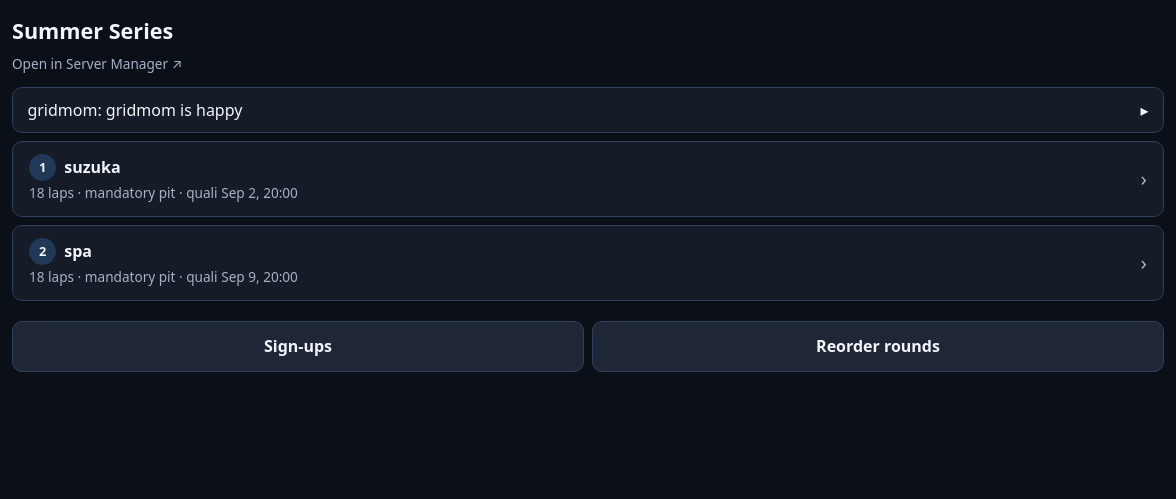
Test case: reordering the rounds › shows the night each slot keeps rather than moving it
The width and height of the screenshot is (1176, 499).
Expected: the heading "Summer Series" is shown, top-left (12, 16), bottom-right (173, 45)
Step 1. Click the button "Reorder rounds" → (878,346), box top-left (592, 320), bottom-right (1164, 372)
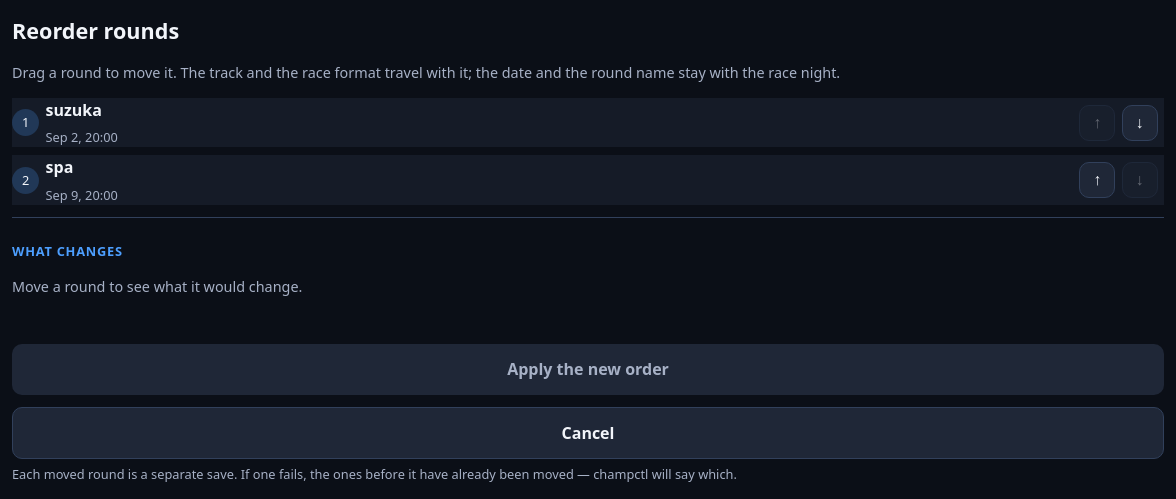
Expected: the heading "Reorder rounds" is shown, top-left (12, 16), bottom-right (179, 45)
Step 2. Click the button named "Move round 2 up" → (1097,180), box top-left (1079, 162), bottom-right (1115, 198)
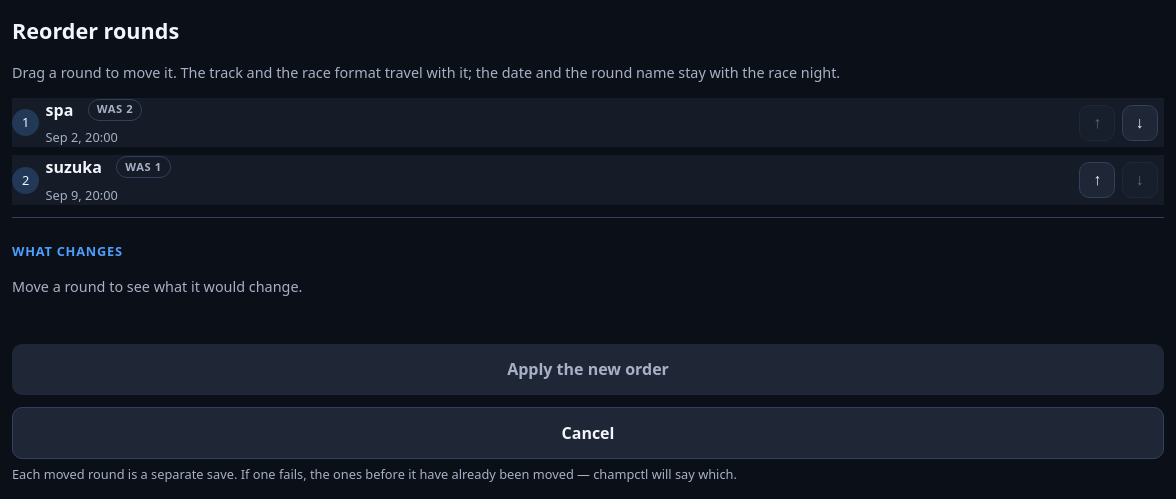
Expected: the list item "1 spa was 2 Sep 2, 20:00 ↑ ↓" is shown, top-left (12, 98), bottom-right (1164, 147)
